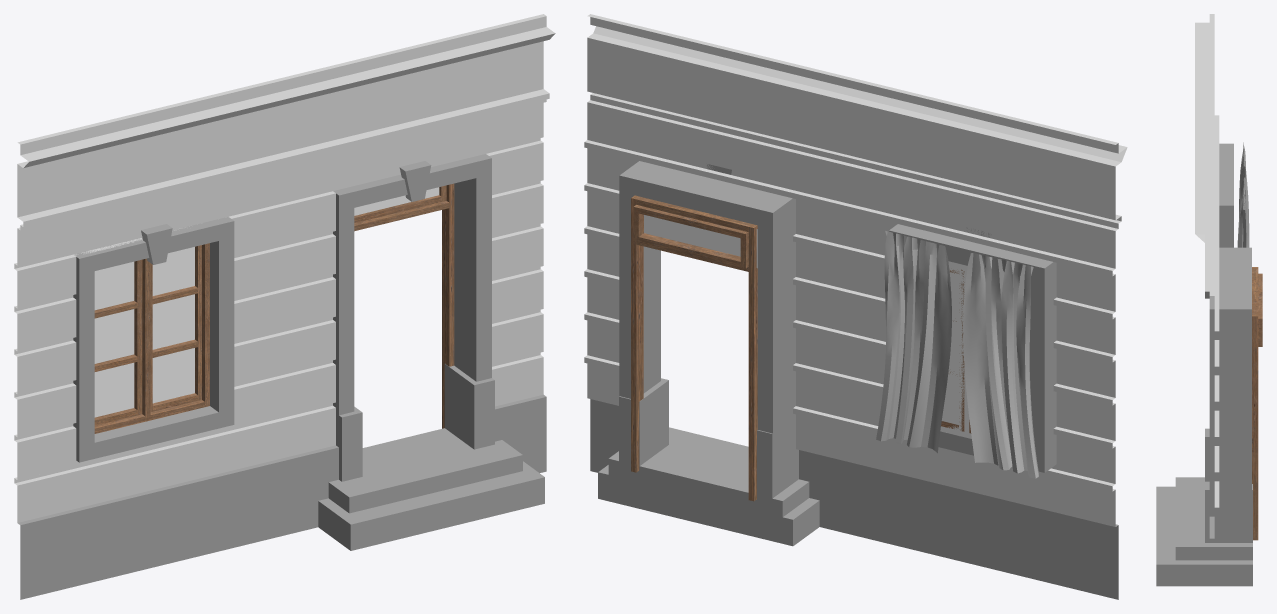
The model's file is Facade_Bottom_Door.fbx.
The picture shows the model from 3 angles, left to right: view 1: azimuth 30°, elevation 25°; view 2: azimuth 150°, elevation 25°; view 3: azimuth 270°, elevation 25°; orthographic projection. The views are drawn at different scales.
Visible parts, largest first — view 1: Facade_Bottom_Door; view 2: Facade_Bottom_Door; view 3: Facade_Bottom_Door.
Boxes of the visible parts, x1,y1,x2,y2 form: Facade_Bottom_Door: (14, 14, 555, 599); Facade_Bottom_Door: (584, 14, 1127, 599); Facade_Bottom_Door: (1156, 14, 1262, 586).
Size of the model in its own units: 5.7 by 4.71 by 1.21.
